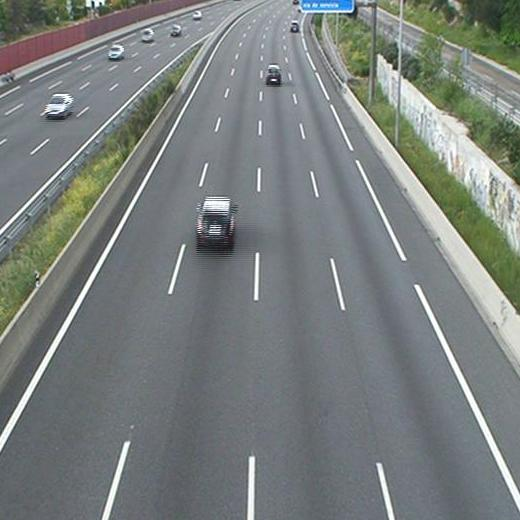car: (196, 196, 235, 250), (265, 65, 282, 85)
